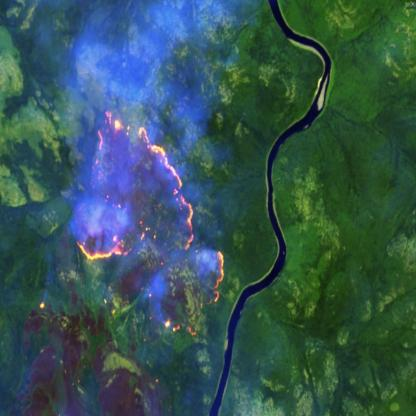fire: (72, 107, 223, 311)
